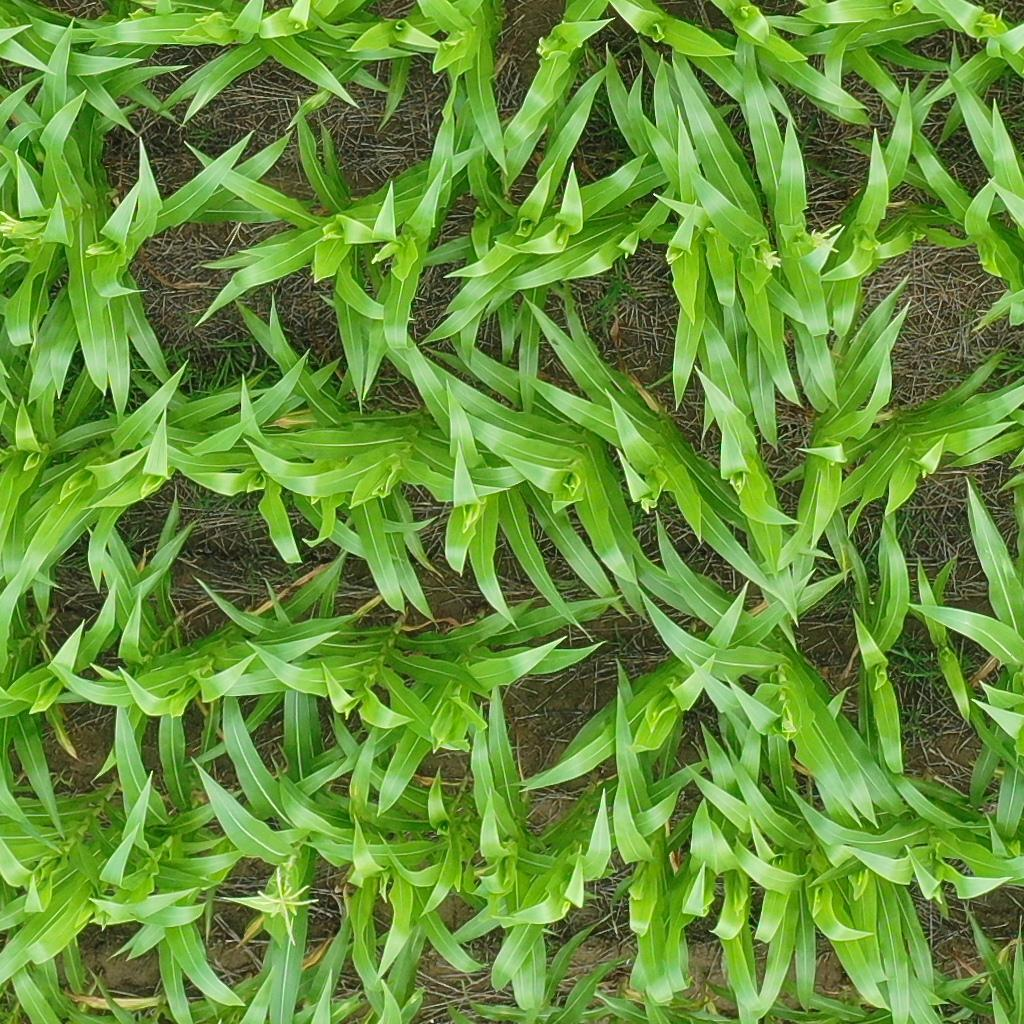Tassel: (251, 865, 321, 946), (810, 221, 848, 253), (1, 210, 33, 238), (460, 500, 483, 532), (758, 242, 779, 273), (85, 242, 110, 258), (368, 248, 386, 264)
